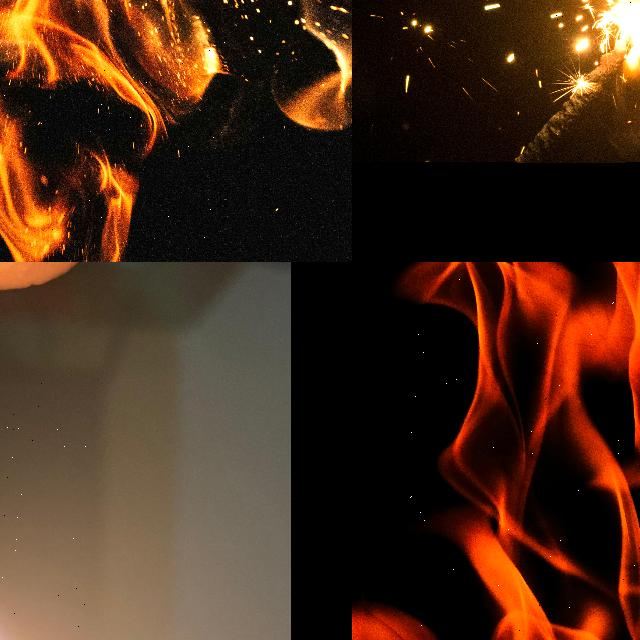fire: (399, 262, 640, 640), (0, 0, 219, 262), (517, 25, 640, 162), (514, 42, 626, 162)
